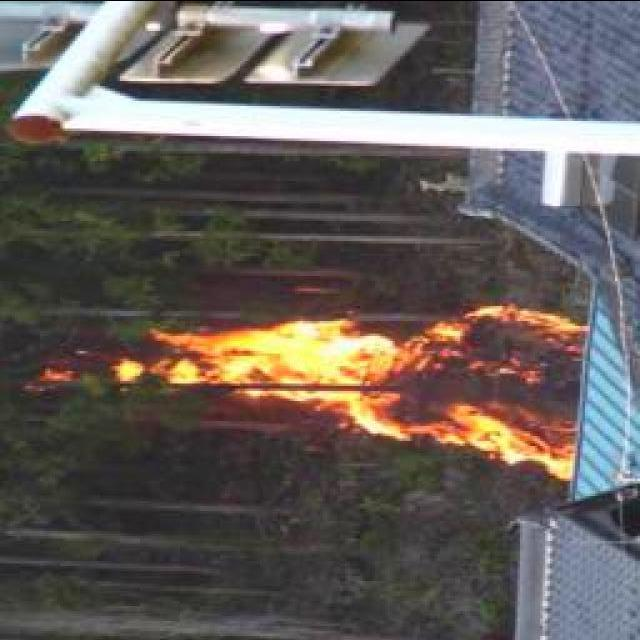Fire: (146, 304, 584, 478)
